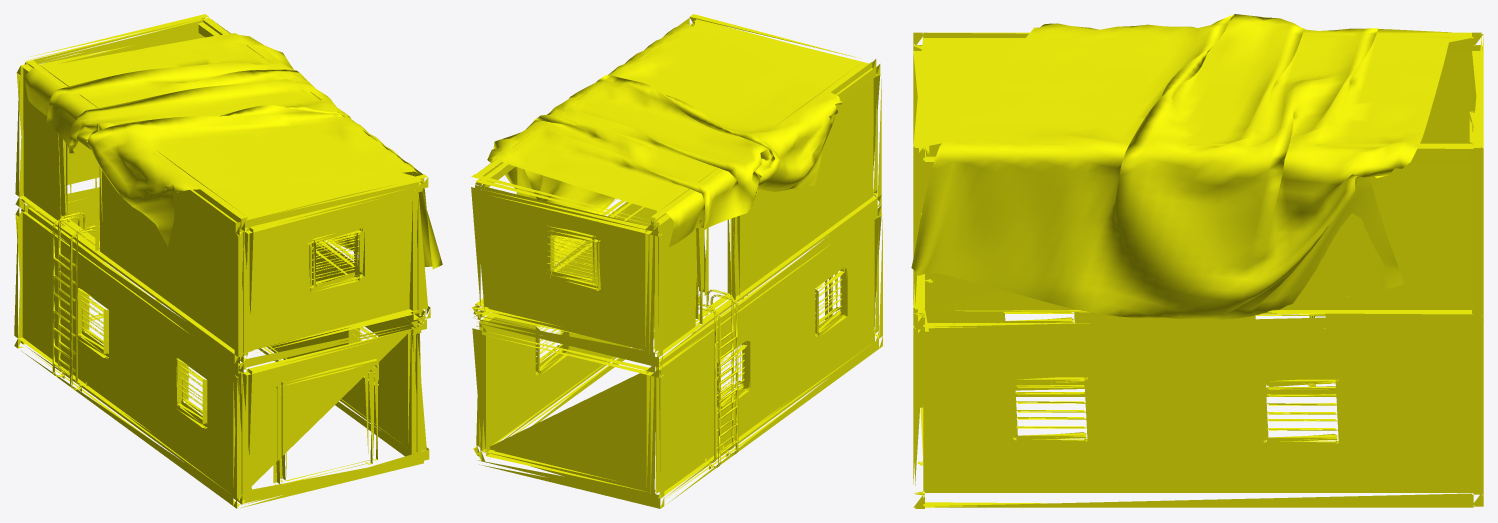
Rendered from cabin.glb.
3 views of the same model, side by side, from view 1: azimuth 30°, elevation 25°; view 2: azimuth 150°, elevation 25°; view 3: azimuth 270°, elevation 25° (orthographic). The views are drawn at different scales.
Visible parts, largest first — view 1: Cabin__2, Cabin__1, Misc; view 2: Cabin__2, Misc, Cabin__1; view 3: Cabin__1, Misc, Cabin__2.
Boxes of the visible parts, bbox=[...] form: Cabin__2: bbox=[14, 18, 425, 508]; Cabin__1: bbox=[20, 14, 430, 504]; Misc: bbox=[24, 33, 442, 269]; Cabin__2: bbox=[475, 19, 882, 508]; Misc: bbox=[487, 23, 842, 255]; Cabin__1: bbox=[471, 14, 878, 498]; Cabin__1: bbox=[913, 32, 1481, 507]; Misc: bbox=[911, 14, 1451, 319]; Cabin__2: bbox=[915, 34, 1483, 508].
Size of the model in its own units: 2.42 by 2.91 by 3.95.
